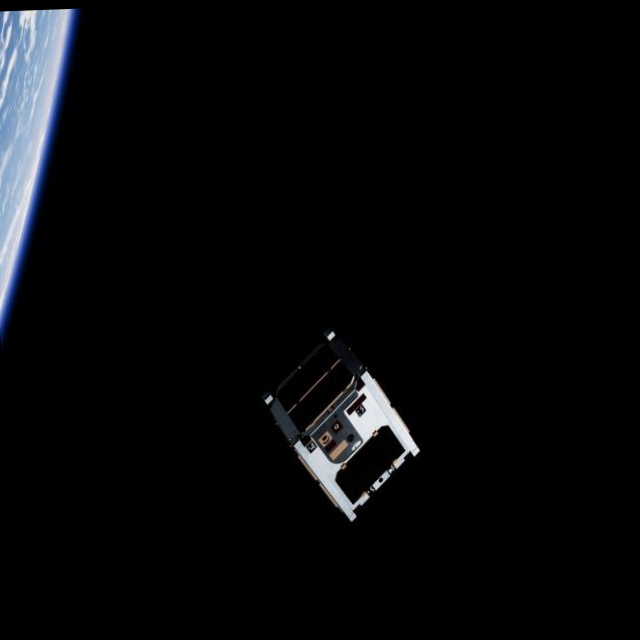satellite: (257, 320, 425, 523)
